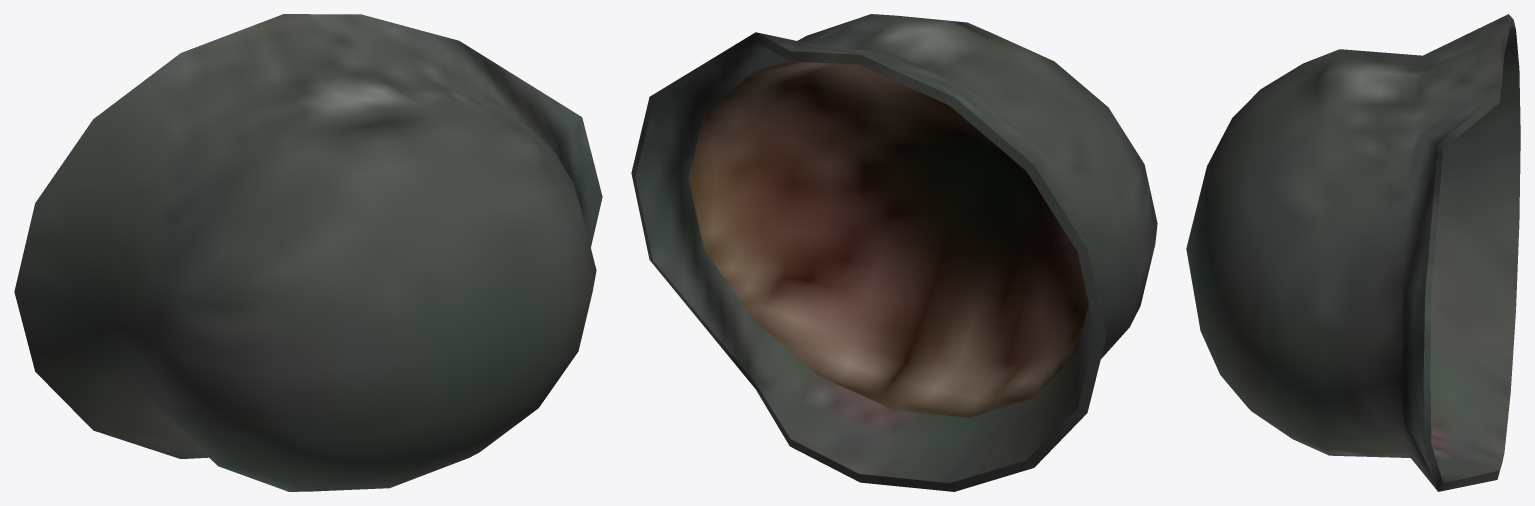
The model's file is helmet_german_normandy.glb.
3 views of the same model, side by side, from view 1: azimuth 30°, elevation 25°; view 2: azimuth 150°, elevation 25°; view 3: azimuth 270°, elevation 25° (orthographic). The views are drawn at different scales.
Size of the model in its own units: 12.64 by 9.87 by 7.17.
Materials: 1 (1 with a texture image).
